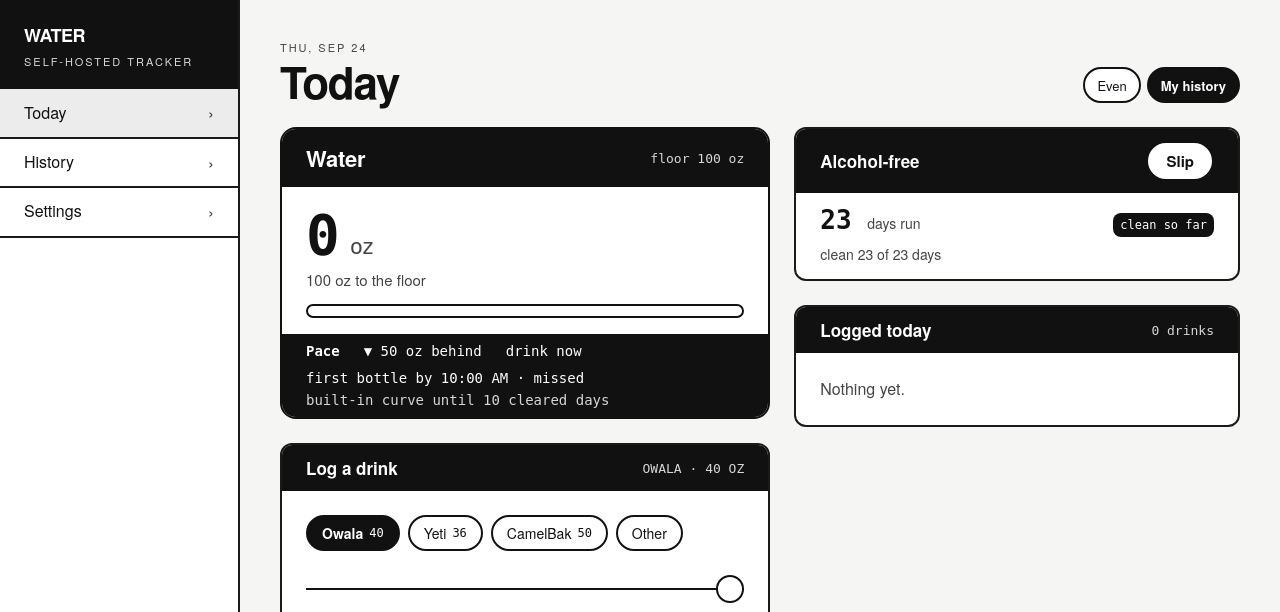
Test case: Vices on Today › log for yesterday: the slip lands on yesterday at the picked time and breaks the run
This screenshot has width=1280, height=612.
Click the button with aria-label "Slip: Alcohol" at (1180, 161), box [1146, 141, 1214, 181]
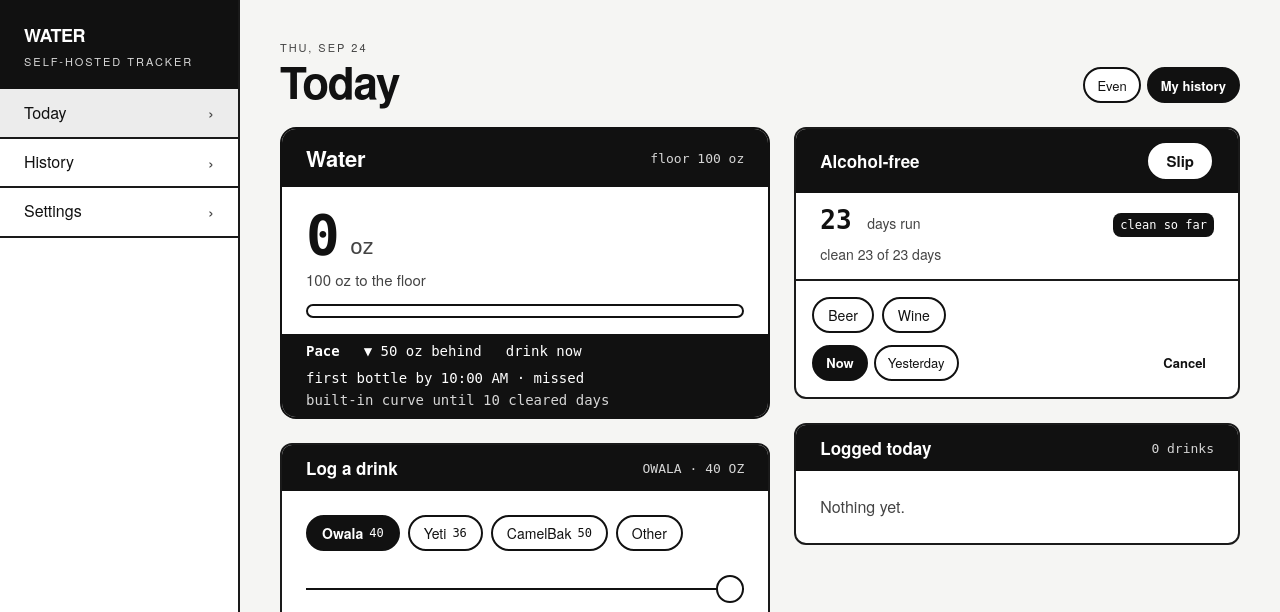
Click the button "Yesterday" below "clean 23 of 23 days" at (916, 363), box [874, 345, 958, 381]
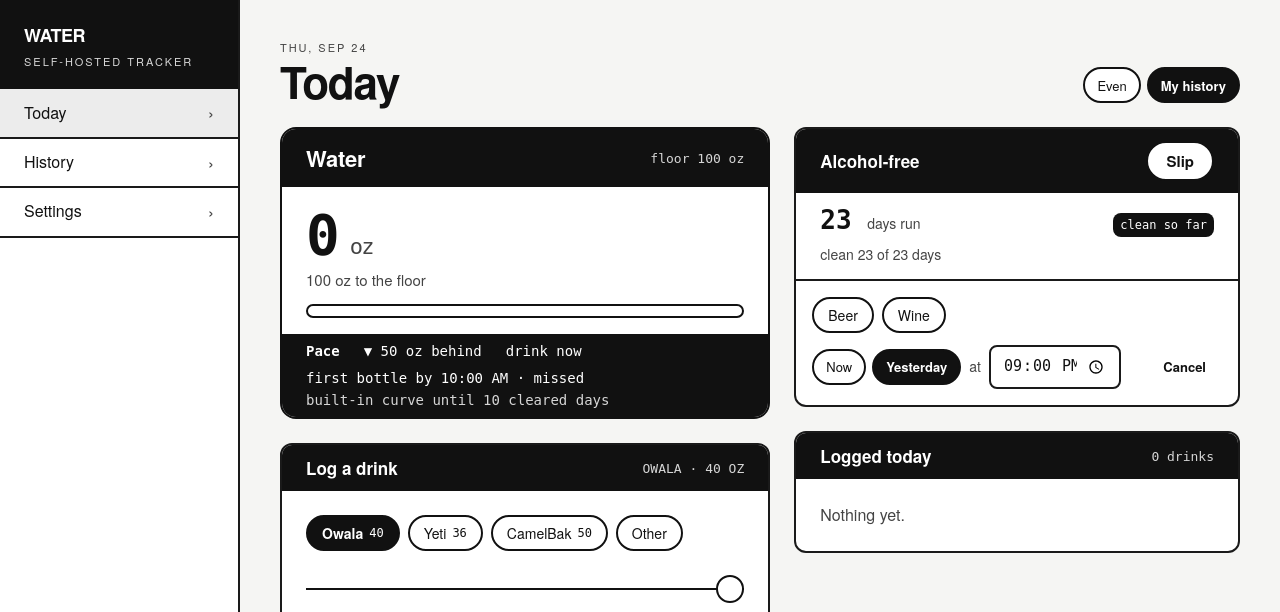
Replace the text in the time field named "Slip time yesterday (Alcohol)" with "22:30" at (1055, 367), box [989, 345, 1121, 389]
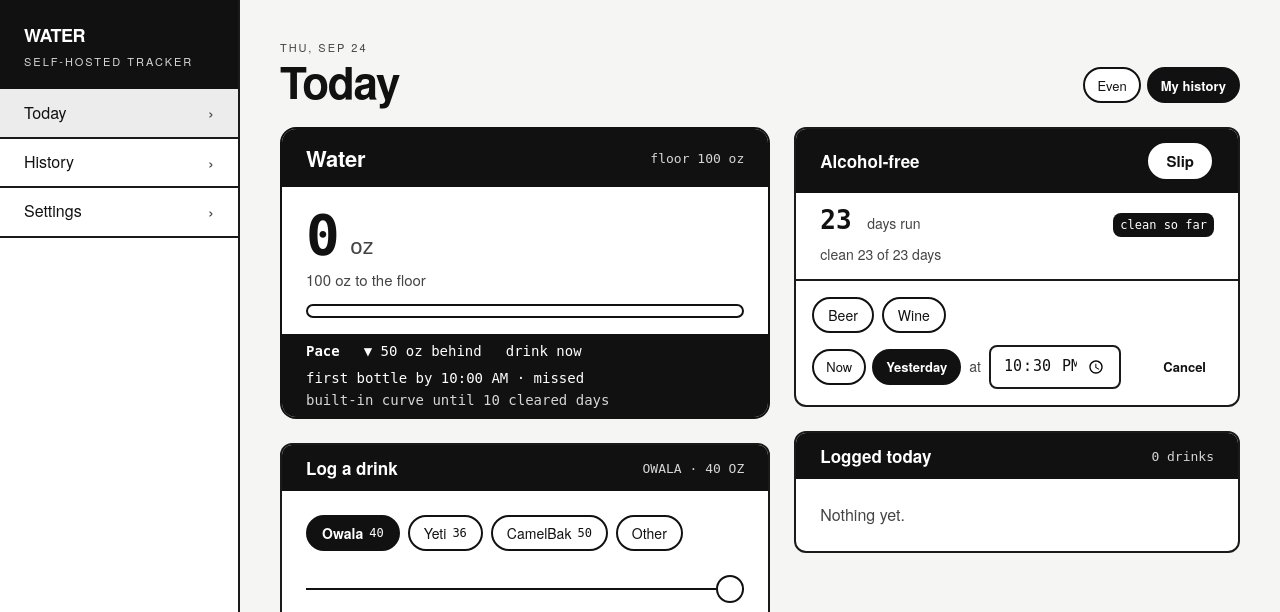
Click the button "Wine" at (914, 315), box [882, 297, 946, 333]
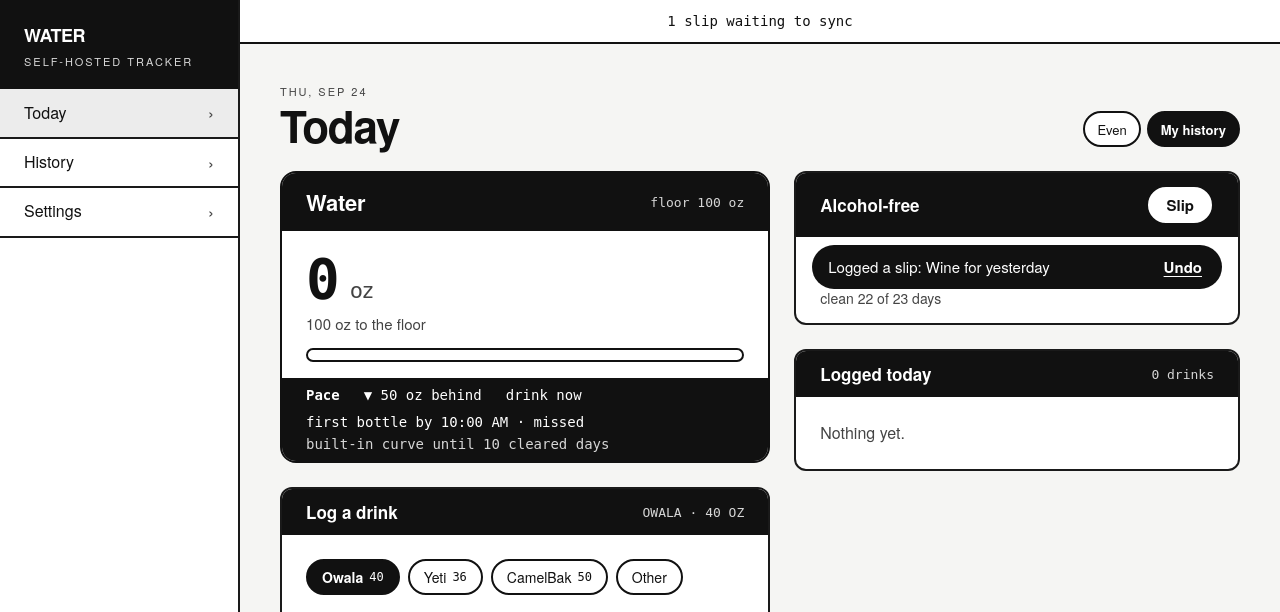
Check: the text "clean so far" is shown, box [1113, 257, 1214, 281]
Check: the message with class "undo-bar" reads "Logged a slip: Wine for yesterday Undo", box [812, 245, 1222, 289]
Check: the text "clean 22 of 23 days" is shown, box [820, 288, 941, 308]
